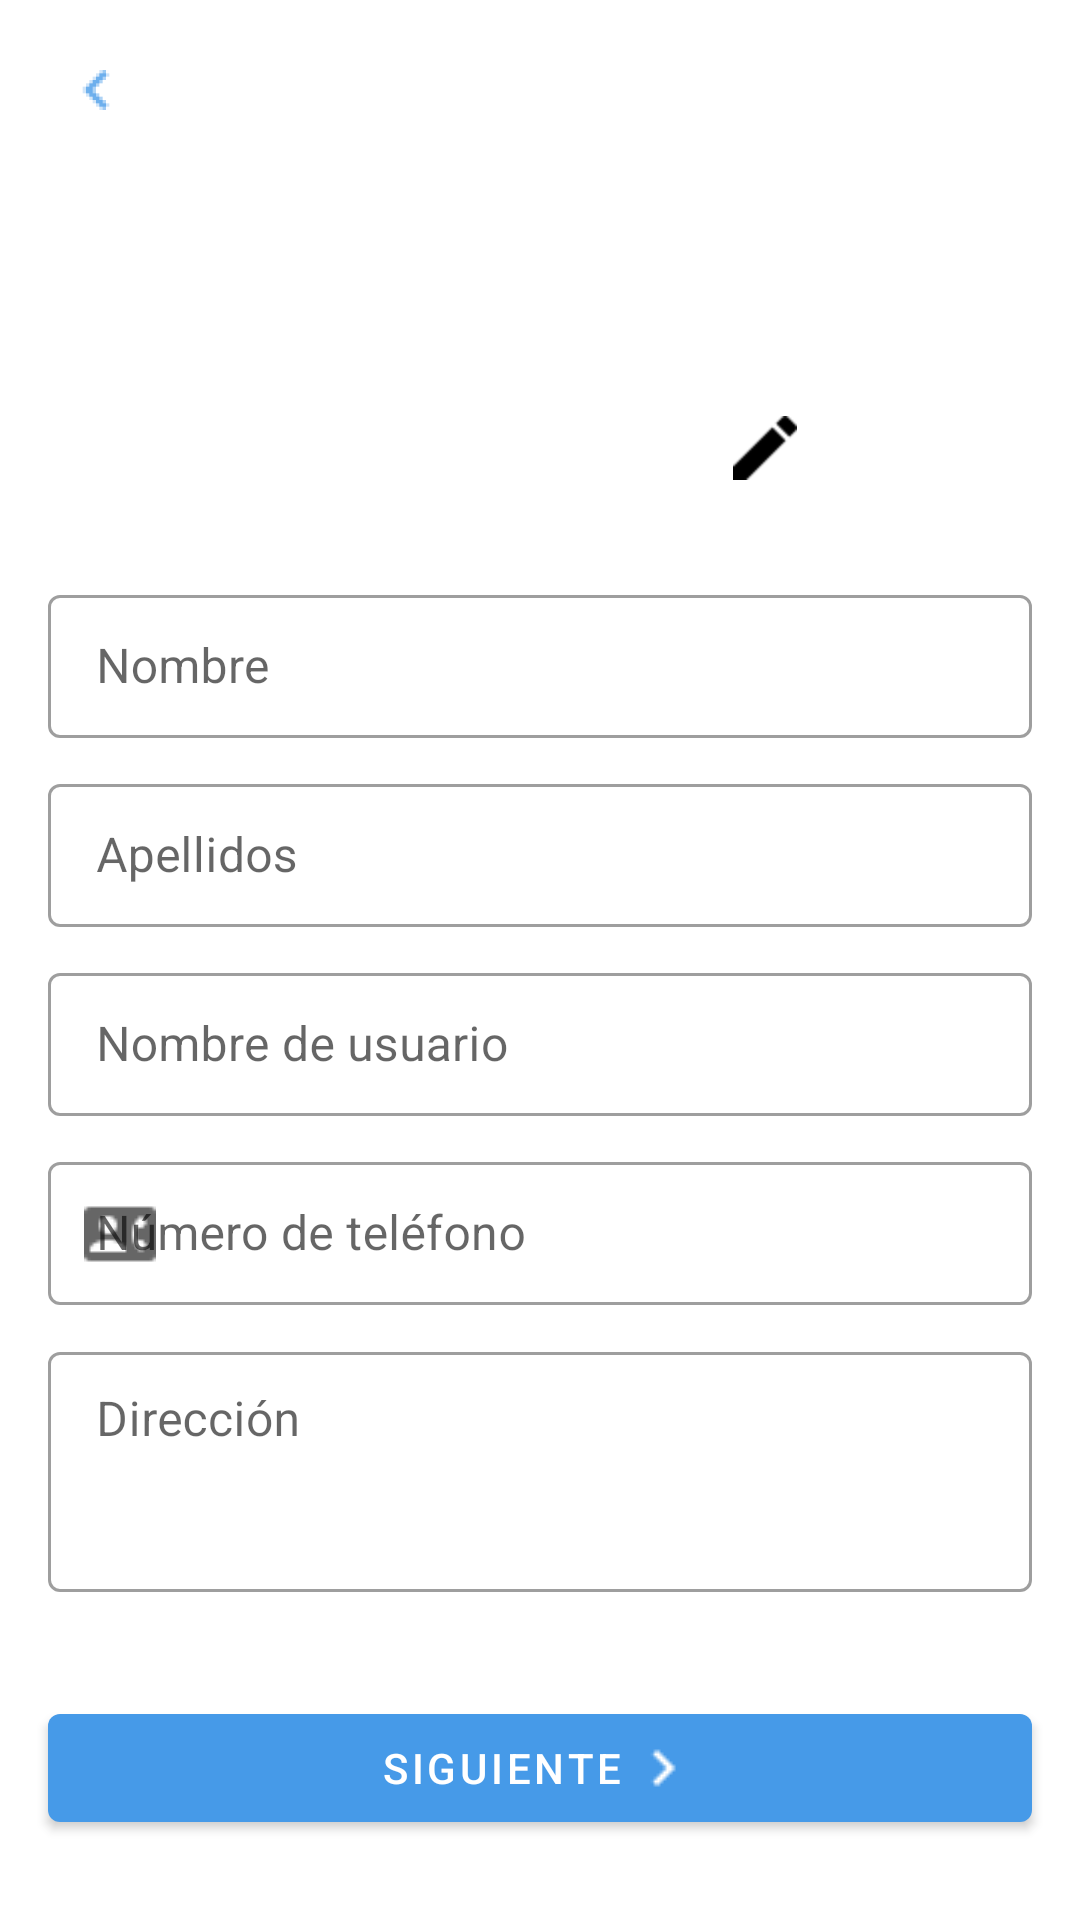

Icons on this 1080x1920 Android screen, each with its box as (left=x1, top=y1, right=x2, bottom=y2):
edit: (left=733, top=416, right=797, bottom=480)
